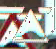Speed Breaker ahead: (0, 2, 48, 48)
